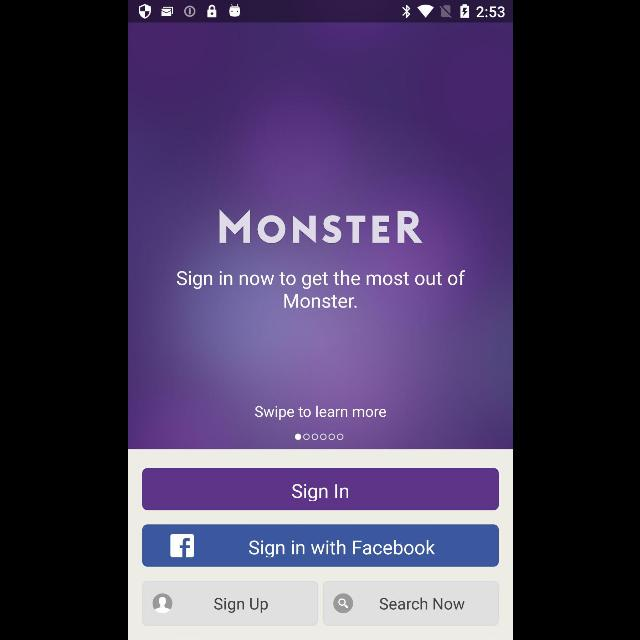pageindicator: (294, 433, 342, 441)
text: (175, 270, 465, 310), (218, 208, 422, 244), (254, 405, 386, 421)
textbutton: (142, 524, 498, 568), (142, 468, 498, 510), (142, 580, 318, 626), (322, 580, 498, 626)
uppertaskbar: (128, 1, 512, 23)
